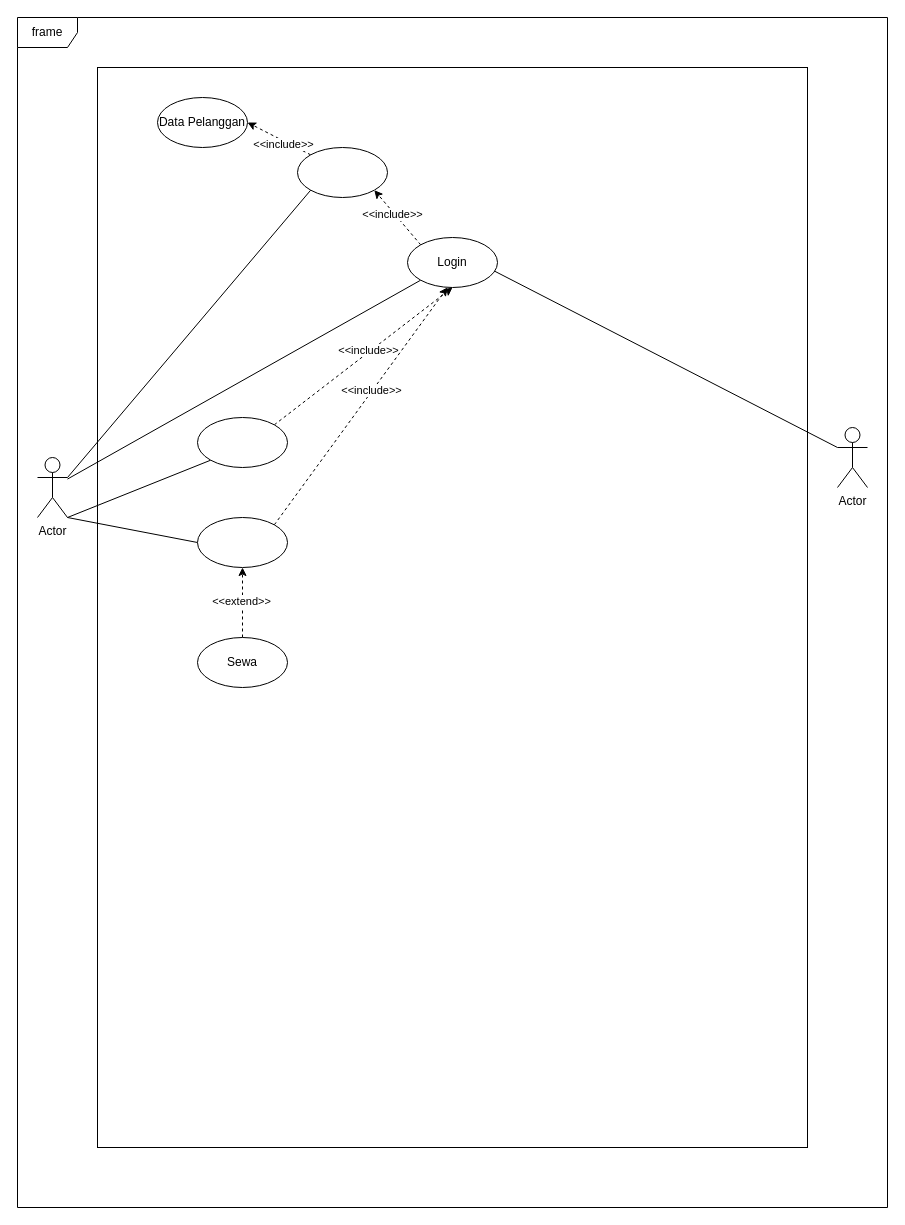
Image size: 905x1225. Some labels were removed from this diagram. The centre of each missing label's shape, as x and y in pixels:
Register: the point at 342,172
Transaksi: the point at 242,542
Update Akun: the point at 242,442
